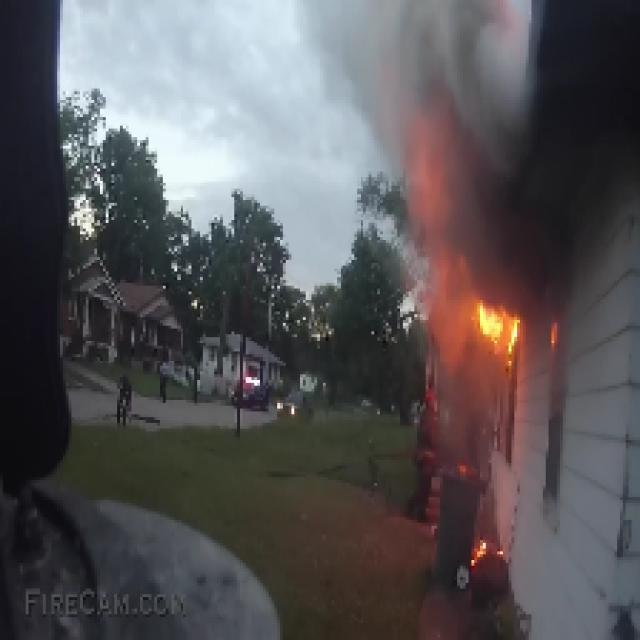Fire: (428, 263, 563, 386), (468, 532, 503, 568)
Smoke: (302, 2, 528, 478)
